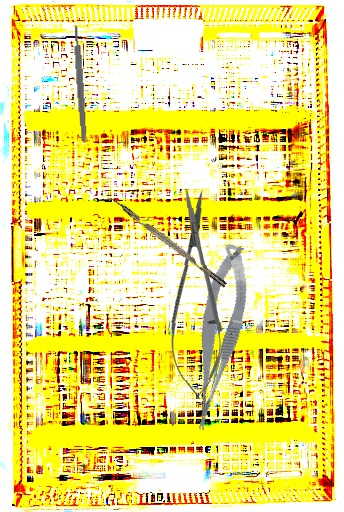Chopper: (101, 191, 228, 294)
Micro Scissor: (169, 241, 265, 434), (167, 188, 225, 400)
Scalpel Handle: (72, 24, 88, 143)
